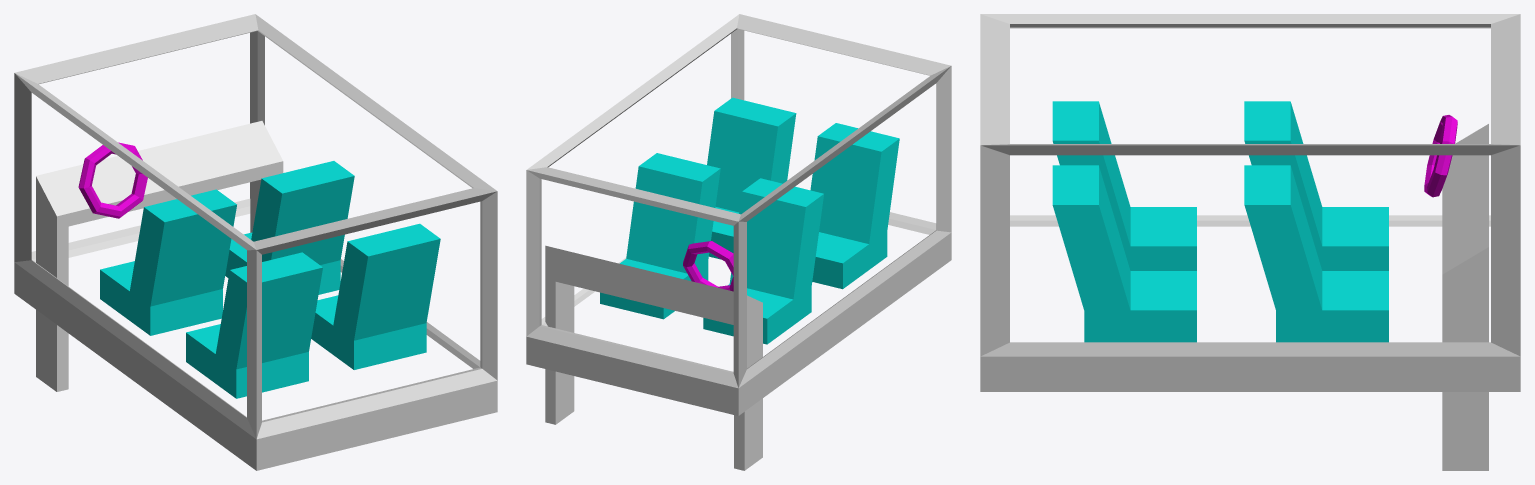
The model's file is digiphy.glb.
The picture shows the model from 3 angles, left to right: view 1: azimuth 30°, elevation 25°; view 2: azimuth 150°, elevation 25°; view 3: azimuth 270°, elevation 25°; orthographic projection. The views are drawn at different scales.
Parts seen in each view (by area): view 1: frame, dashboard, chair-4, chair-1, chair-3, chair-2; view 2: frame, dashboard, chair-3, chair-1, chair-2, chair-4; view 3: frame, chair-2, chair-4, dashboard, chair-1, chair-3.
Boxes of the visible parts, x1,y1,x2,y2 form: frame: (14,14,497,470); dashboard: (36,121,283,391); chair-4: (311,223,440,369); chair-1: (100,189,236,335); chair-3: (186,252,322,398); chair-2: (225,161,354,294); frame: (526,14,951,415); dashboard: (545,241,762,470); chair-3: (810,123,899,289); chair-1: (703,178,823,344); chair-2: (600,153,720,319); chair-4: (707,97,796,259); frame: (980,14,1520,391); chair-2: (1244,165,1388,342); chair-4: (1052,165,1196,342); dashboard: (1424,115,1488,470); chair-1: (1244,101,1388,270); chair-3: (1052,101,1196,270).
Size of the model in its own units: 4 by 4.68 by 6.96.
